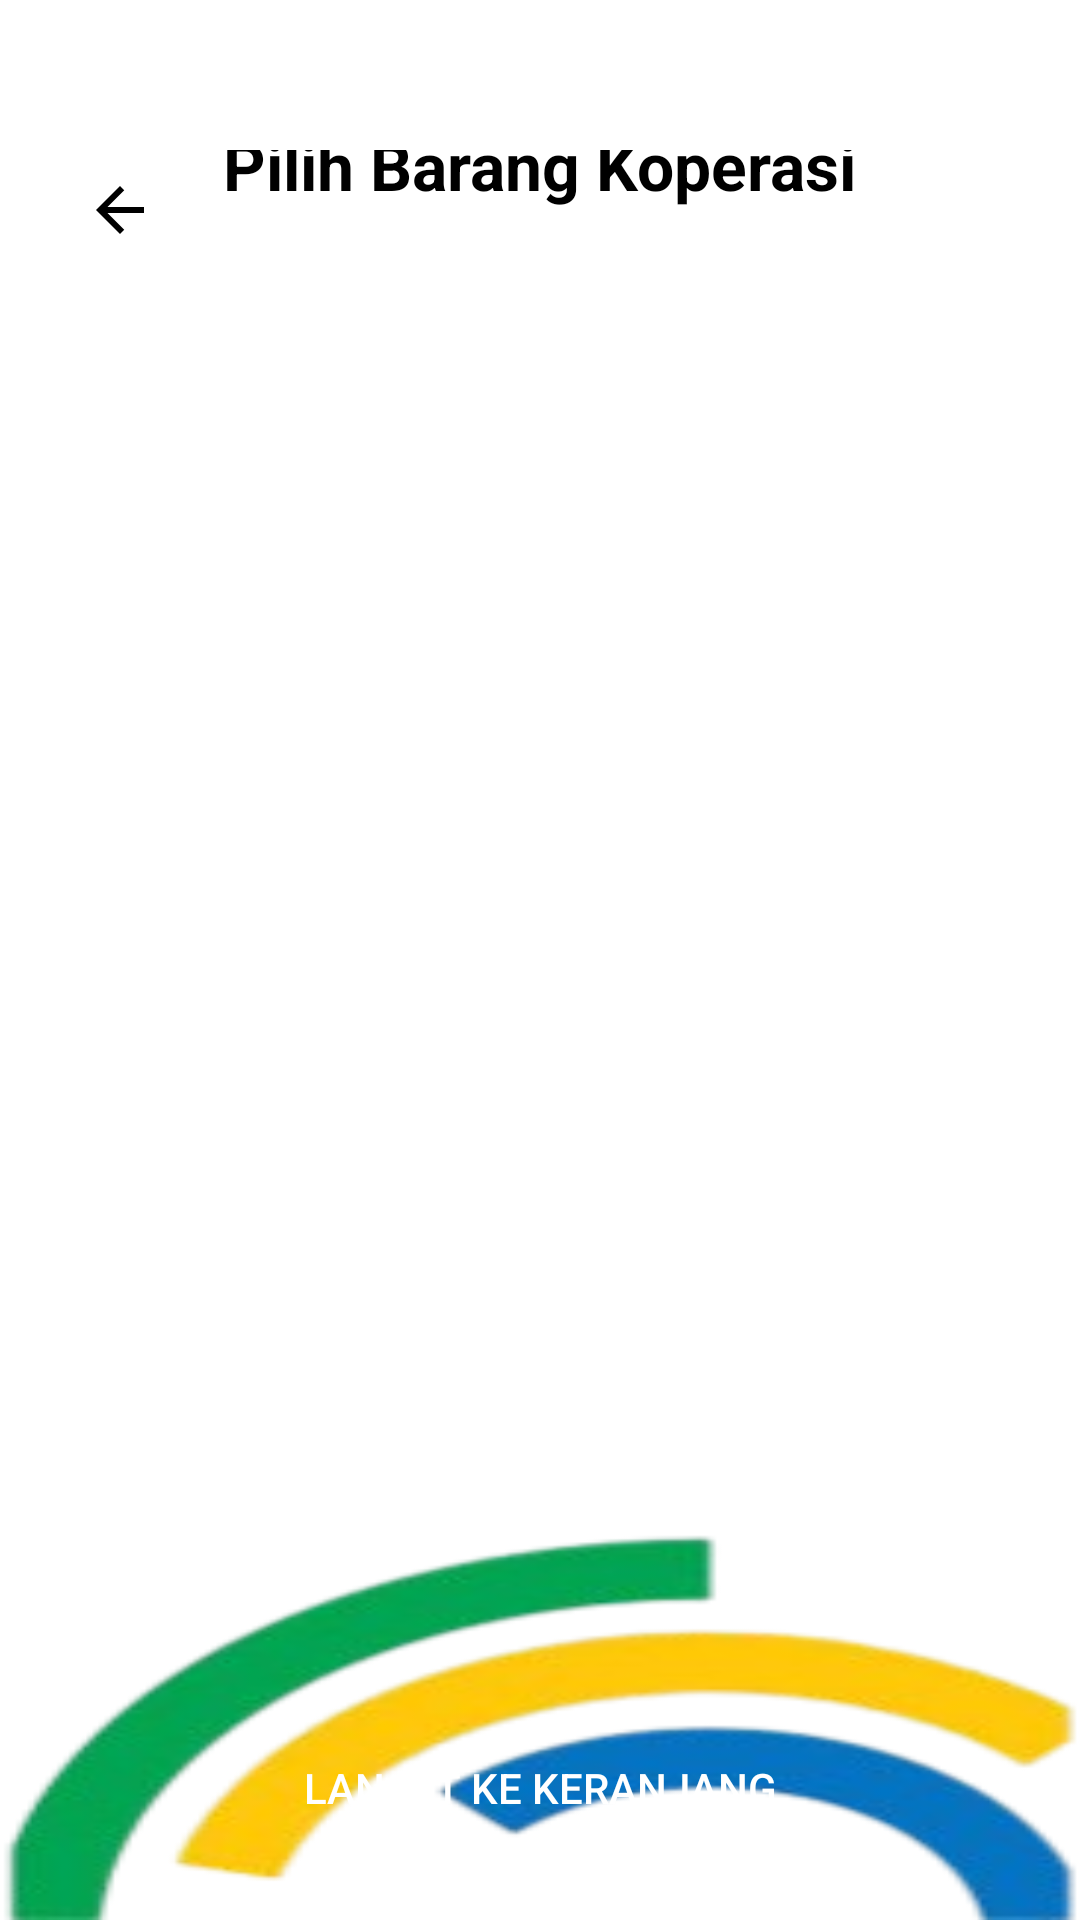

Icon bounding boxes for this 1080 x 1920 phone screenshot, format (x1, y1, x2, y2):
Tombol Kembali: (96, 186, 144, 234)
